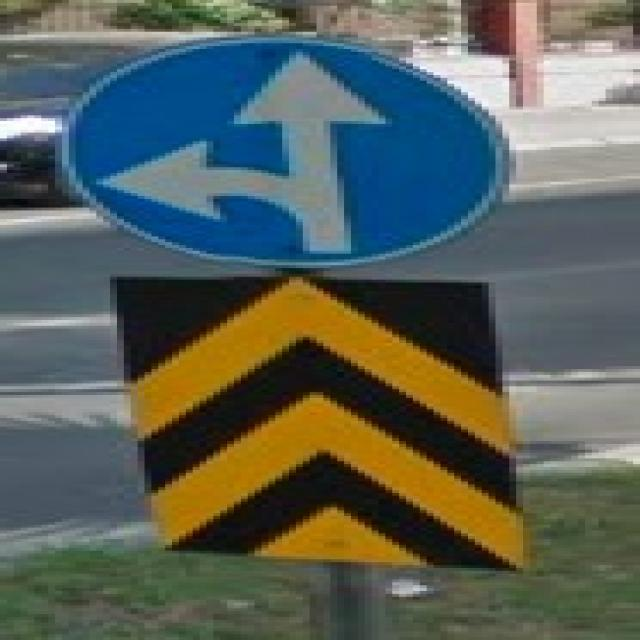Straight or Left: (53, 40, 507, 268)
